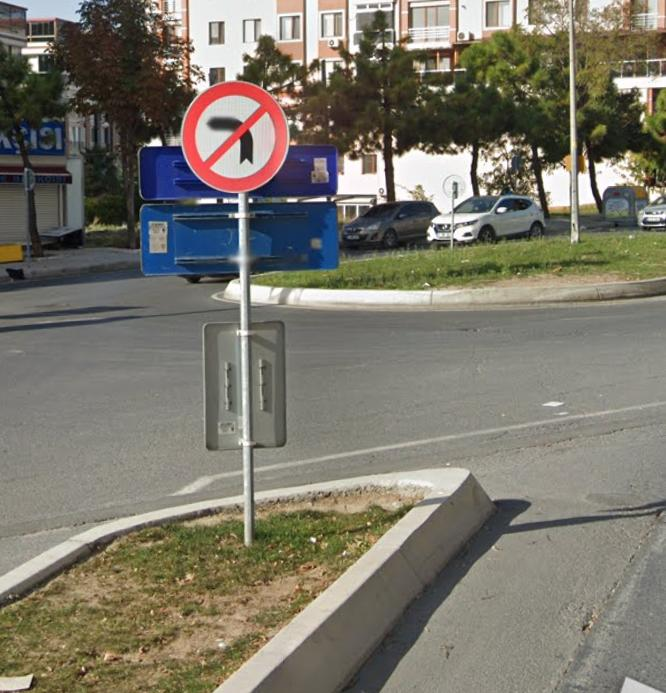leftturnsareforbidden: (183, 80, 292, 194)
